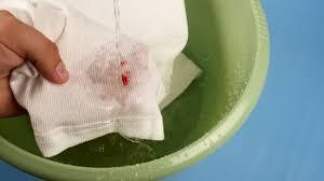blood: (118, 60, 130, 86)
